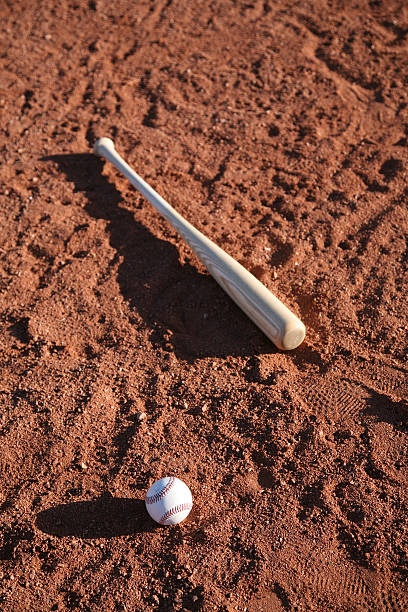bita: (79, 140, 316, 348)
